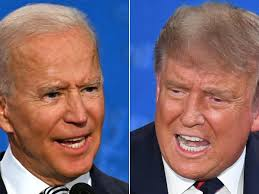No-Glasses: (158, 77, 243, 113), (25, 76, 107, 103)
